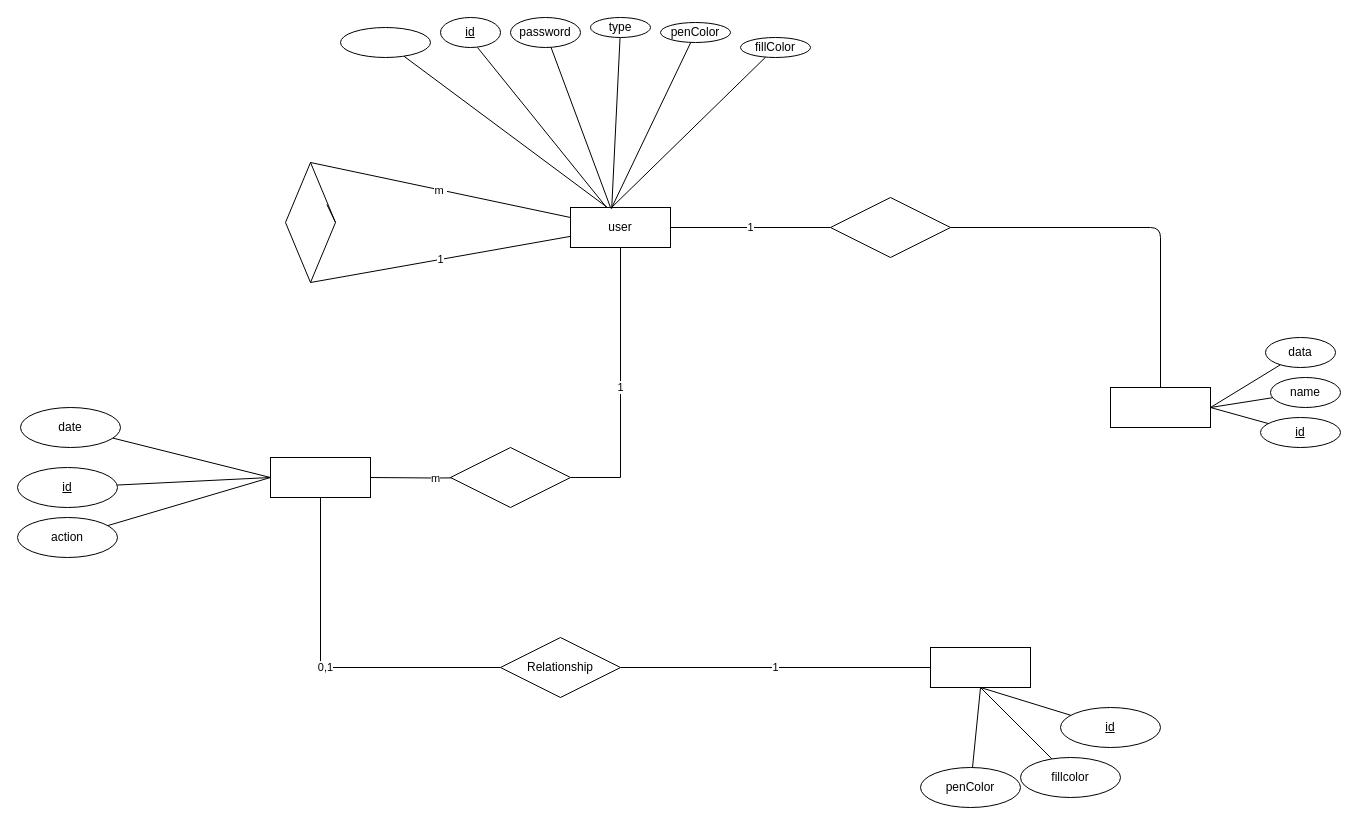
The diagram is 1358 pixels wide and 825 high, and some of its shapes have lost their labels. Here are the shapes that lost their labels. From the top down, the centre of each, then its label:
the point at 385,42: userName
the point at 310,222: gestiona
the point at 890,227: crea
the point at 1160,407: Paint
the point at 320,477: binnacle
the point at 510,477: tiene
the point at 980,667: Color
